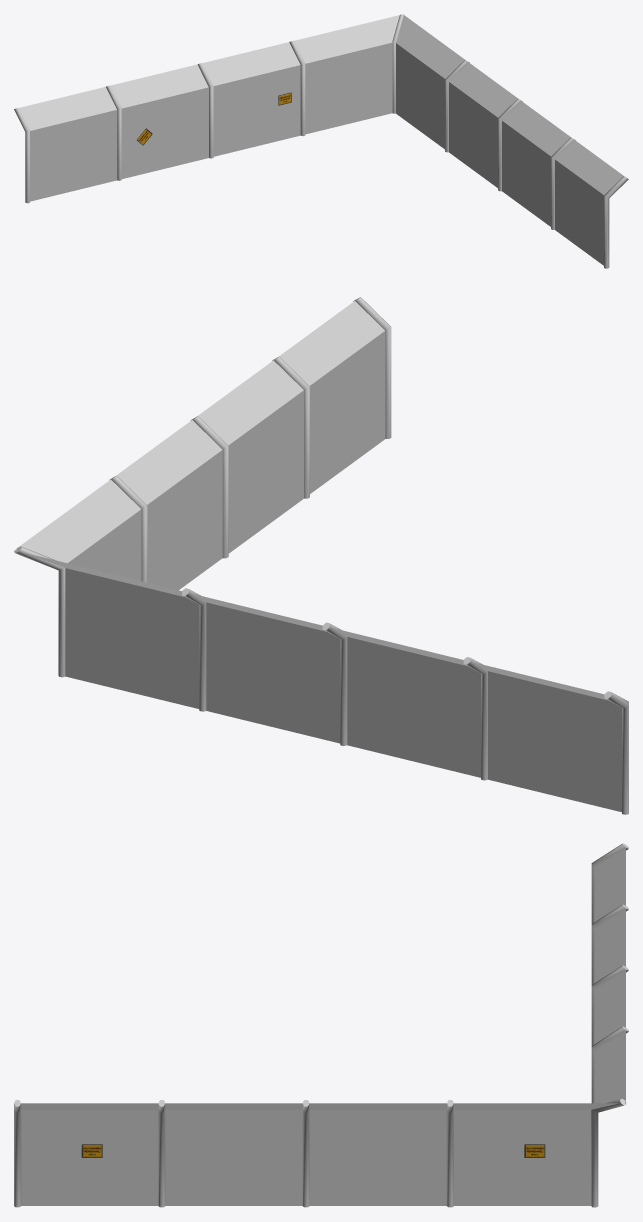
File: pbfenc02.FBX
3 views of the same model, one above another, from view 1: azimuth 30°, elevation 25°; view 2: azimuth 150°, elevation 25°; view 3: azimuth 270°, elevation 25° (orthographic). The views are drawn at different scales.
Visible parts, largest first — view 1: pbfenc02__2; view 2: pbfenc02__2; view 3: pbfenc02__2, sign2__2.
Part boxes in pixels (bbox=[...]): pbfenc02__2: bbox=[14, 14, 628, 268]; pbfenc02__2: bbox=[14, 297, 628, 814]; pbfenc02__2: bbox=[14, 843, 628, 1207]; sign2__2: bbox=[81, 1144, 545, 1157].
Size of what is drawn, in the model's own units: 17.05 by 17.05 by 3.61.
